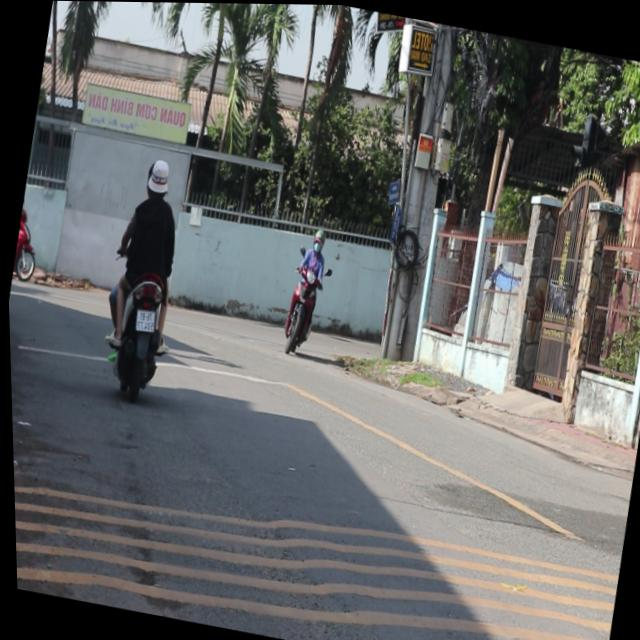licenseplate: (87, 149, 201, 401)
motorcyclist: (143, 153, 173, 195)
nohelmet: (132, 304, 155, 332)
